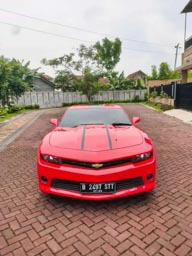plat: (77, 181, 116, 189)
